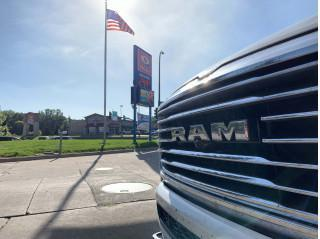ram: (170, 114, 264, 147)
